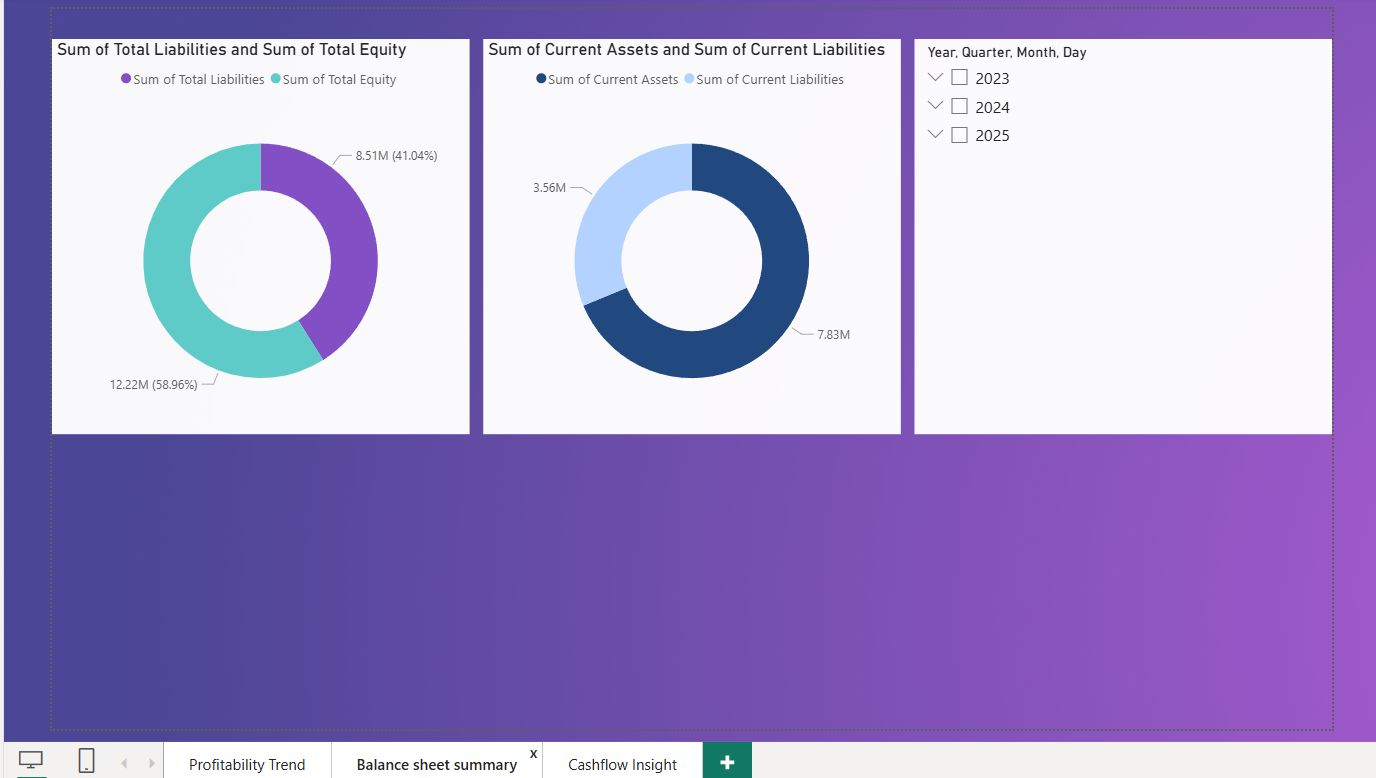

What the dashboard file says about the page in this screenshot:
{"tool":"powerbi","page":{"name":"Balance sheet summary","canvas":[1280,720],"ordinal":1},"visuals":[{"type":"donutChart","fields":{"Y":["Sum(Balance_Sheet.Total Liabilities)","Sum(Balance_Sheet.Total Equity)"]},"box":[0,30,417.5,395],"z":0},{"type":"donutChart","fields":{"Y":["Sum(Balance_Sheet.Current Assets)","Sum(Balance_Sheet.Current Liabilities)"]},"box":[431.2,30,417.5,395],"z":1000},{"type":"slicer","fields":{"Values":["Balance_Sheet.Date.Variation.Date Hierarchy.Year","Balance_Sheet.Date.Variation.Date Hierarchy.Quarter","Balance_Sheet.Date.Variation.Date Hierarchy.Month","Balance_Sheet.Date.Variation.Date Hierarchy.Day"]},"box":[862.5,30,417.5,395],"z":2000}]}

Visuals, with their boxes on the page's 1280x720 design canvas (x1, y1, x2, y2). These are canvas units, not pixel positions in the 1376x778 screenshot, which may show the page scaled, cropped or inside an application window:
donutChart - Sum(Balance_Sheet.Total Liabilities) x Sum(Balance_Sheet.Total Equity): (0,30,418,425)
donutChart - Sum(Balance_Sheet.Current Assets) x Sum(Balance_Sheet.Current Liabilities): (431,30,849,425)
slicer - Balance_Sheet.Date.Variation.Date Hierarchy.Year x Balance_Sheet.Date.Variation.Date Hierarchy.Quarter: (862,30,1280,425)
